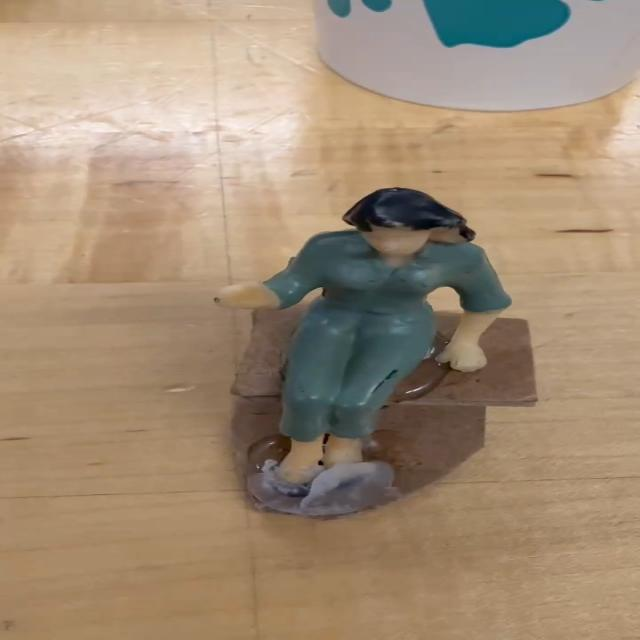Authorized: (219, 183, 522, 509)
